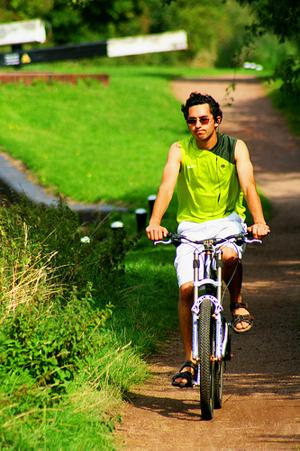person: (147, 89, 269, 391)
